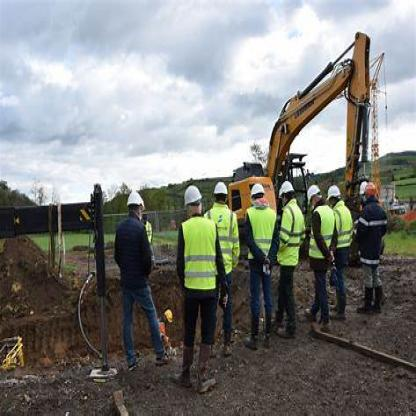person: (173, 177, 227, 395), (112, 184, 164, 371), (275, 168, 307, 354), (357, 172, 391, 332), (243, 173, 271, 355), (213, 176, 239, 354), (306, 175, 330, 328), (330, 178, 352, 337)
